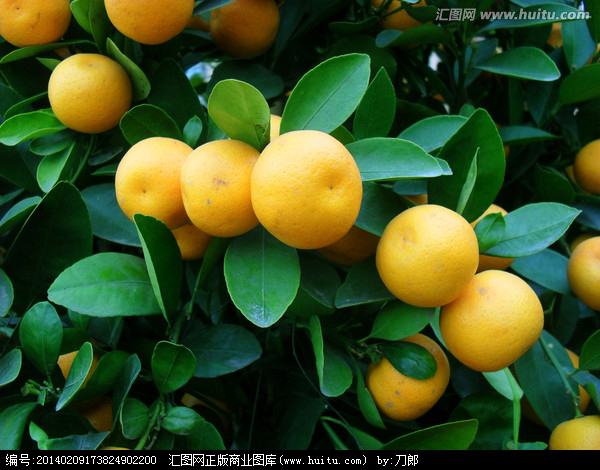orange: (252, 130, 362, 250), (438, 267, 543, 375), (376, 204, 479, 309), (180, 138, 263, 238), (361, 331, 450, 420), (115, 136, 197, 230), (47, 54, 134, 132), (205, 1, 280, 55), (104, 1, 193, 46), (1, 1, 71, 46), (566, 238, 600, 310), (549, 415, 600, 449), (572, 140, 599, 194)
